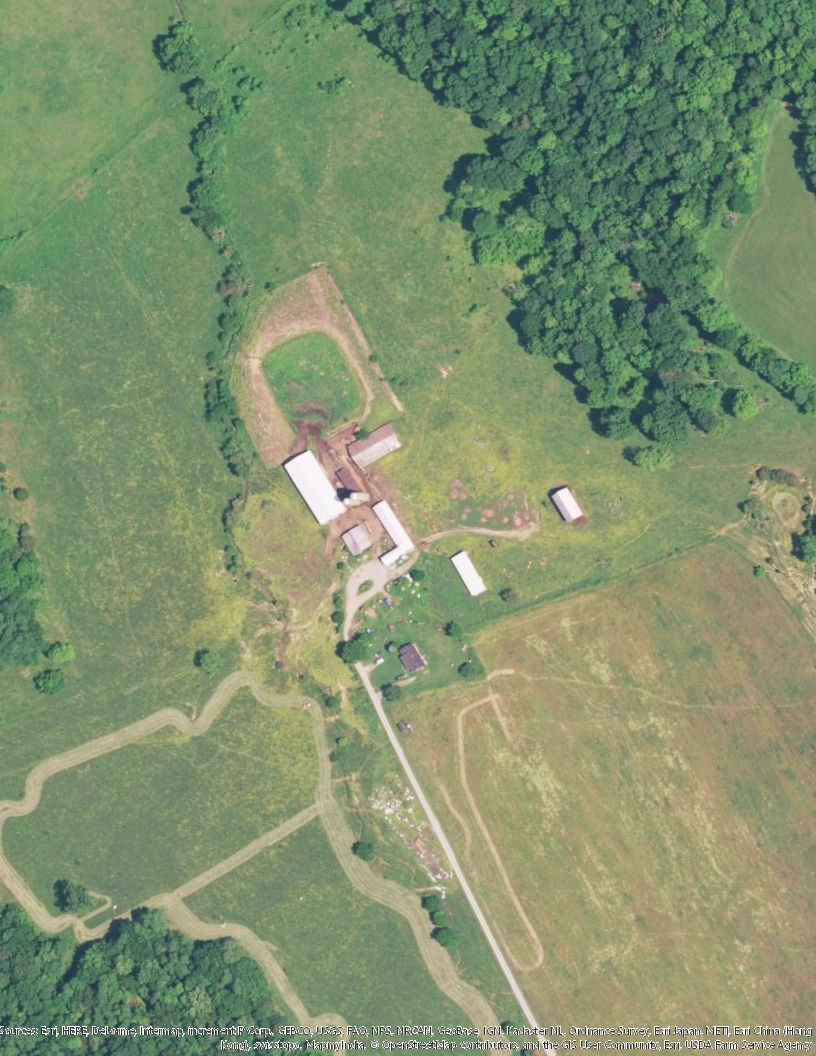cafo: (276, 447, 346, 531), (370, 496, 418, 571), (345, 422, 407, 469), (449, 550, 489, 597), (551, 482, 589, 526), (340, 519, 375, 560)
